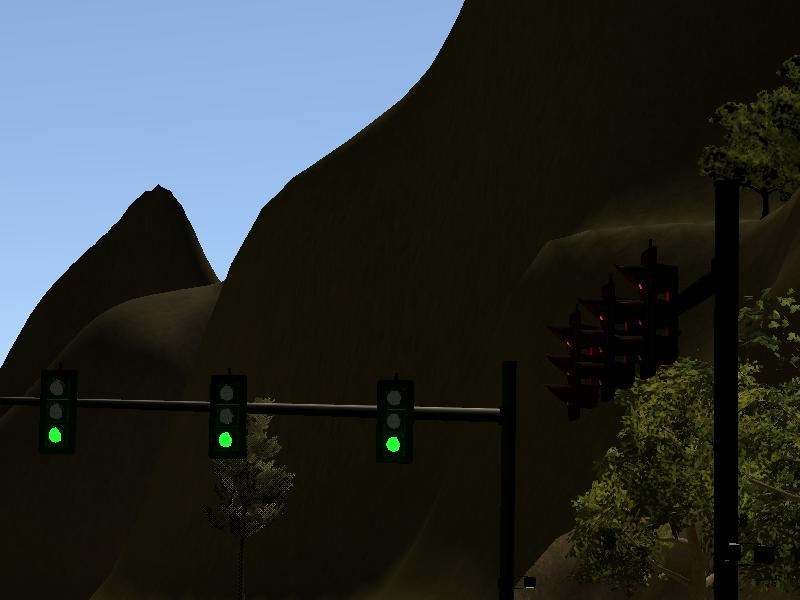GREEN: (37, 367, 74, 451), (207, 371, 244, 455), (375, 380, 412, 464)
